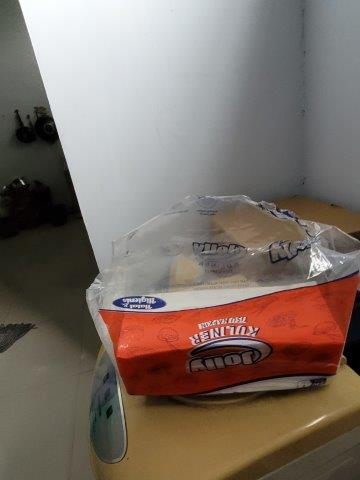plastik: (83, 196, 345, 332)
